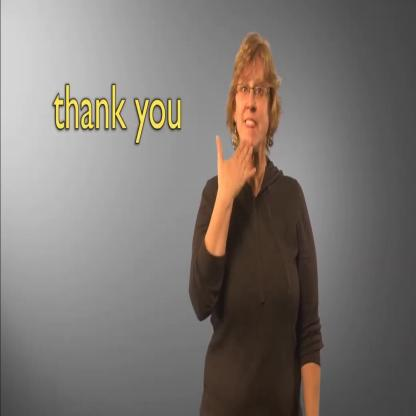ThankYou: (209, 30, 303, 232)
